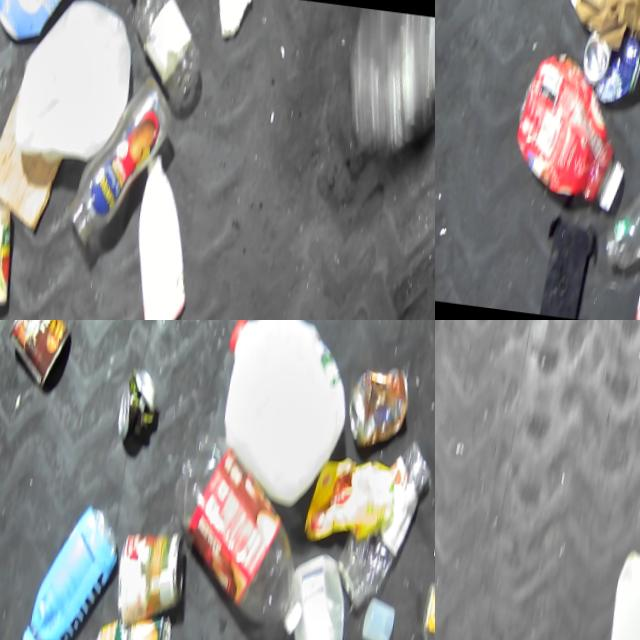can: (113, 516, 195, 623), (339, 355, 420, 463), (574, 22, 640, 117), (0, 320, 79, 396), (101, 362, 169, 450), (0, 194, 24, 312), (88, 618, 179, 640)
milk_jug: (202, 320, 359, 518)
non_white_jug: (507, 39, 640, 219)
plastic_bottle: (159, 429, 327, 640), (111, 0, 213, 97), (600, 92, 640, 275)
